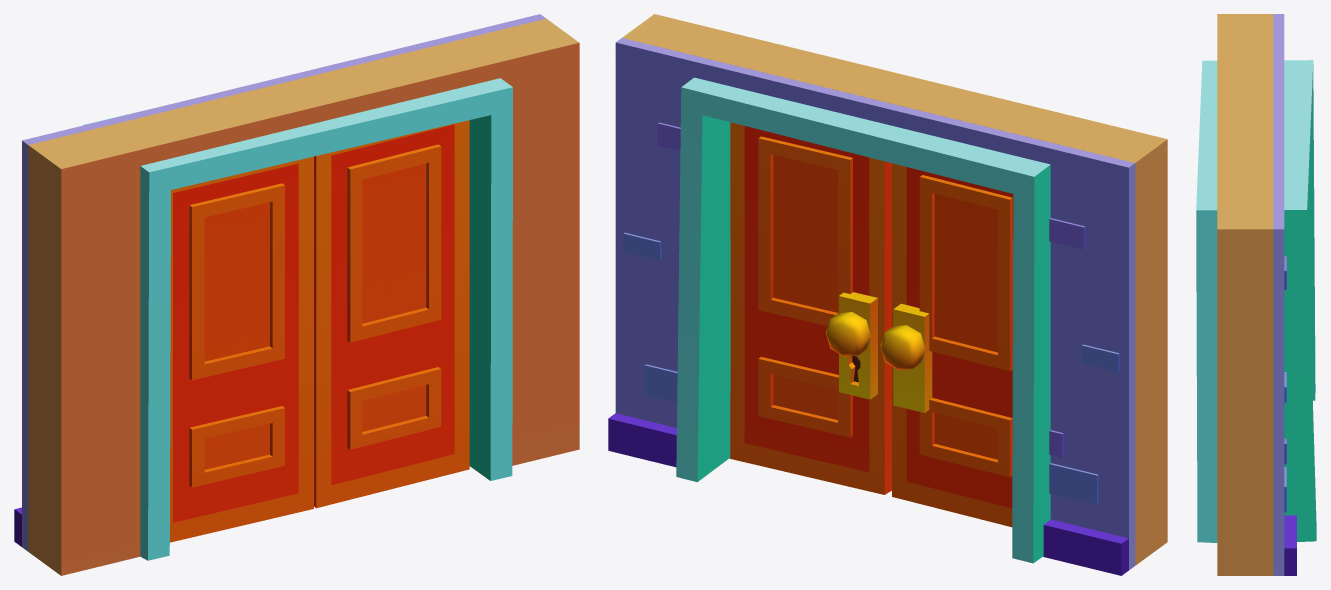
File: bif_door_02.fbx
3 views of the same model, side by side, from view 1: azimuth 30°, elevation 25°; view 2: azimuth 150°, elevation 25°; view 3: azimuth 270°, elevation 25° (orthographic). The views are drawn at different scales.
Parts seen in each view (by area): view 1: Big_door_02, l_door_01, r_door_01, big_door_wall_01; view 2: Big_door_02, big_door_wall_01, l_door_01, r_door_01, l_handle_01, r_handle_01; view 3: Big_door_02, big_door_wall_01.
Part boxes in pixels (x1,y1,x2,y2): Big_door_02: [28, 18, 579, 575]; l_door_01: [314, 120, 469, 508]; r_door_01: [170, 156, 313, 542]; big_door_wall_01: [14, 14, 545, 551]; Big_door_02: [622, 14, 1167, 565]; big_door_wall_01: [608, 38, 1135, 575]; l_door_01: [729, 122, 891, 494]; r_door_01: [892, 163, 1013, 527]; l_handle_01: [825, 292, 877, 399]; r_handle_01: [880, 303, 932, 412]; Big_door_02: [1196, 14, 1316, 575]; big_door_wall_01: [1273, 14, 1296, 575].
Bounding box in the file's own units: 200 × 150 × 47.33.
Materials: 1 (1 with a texture image).
